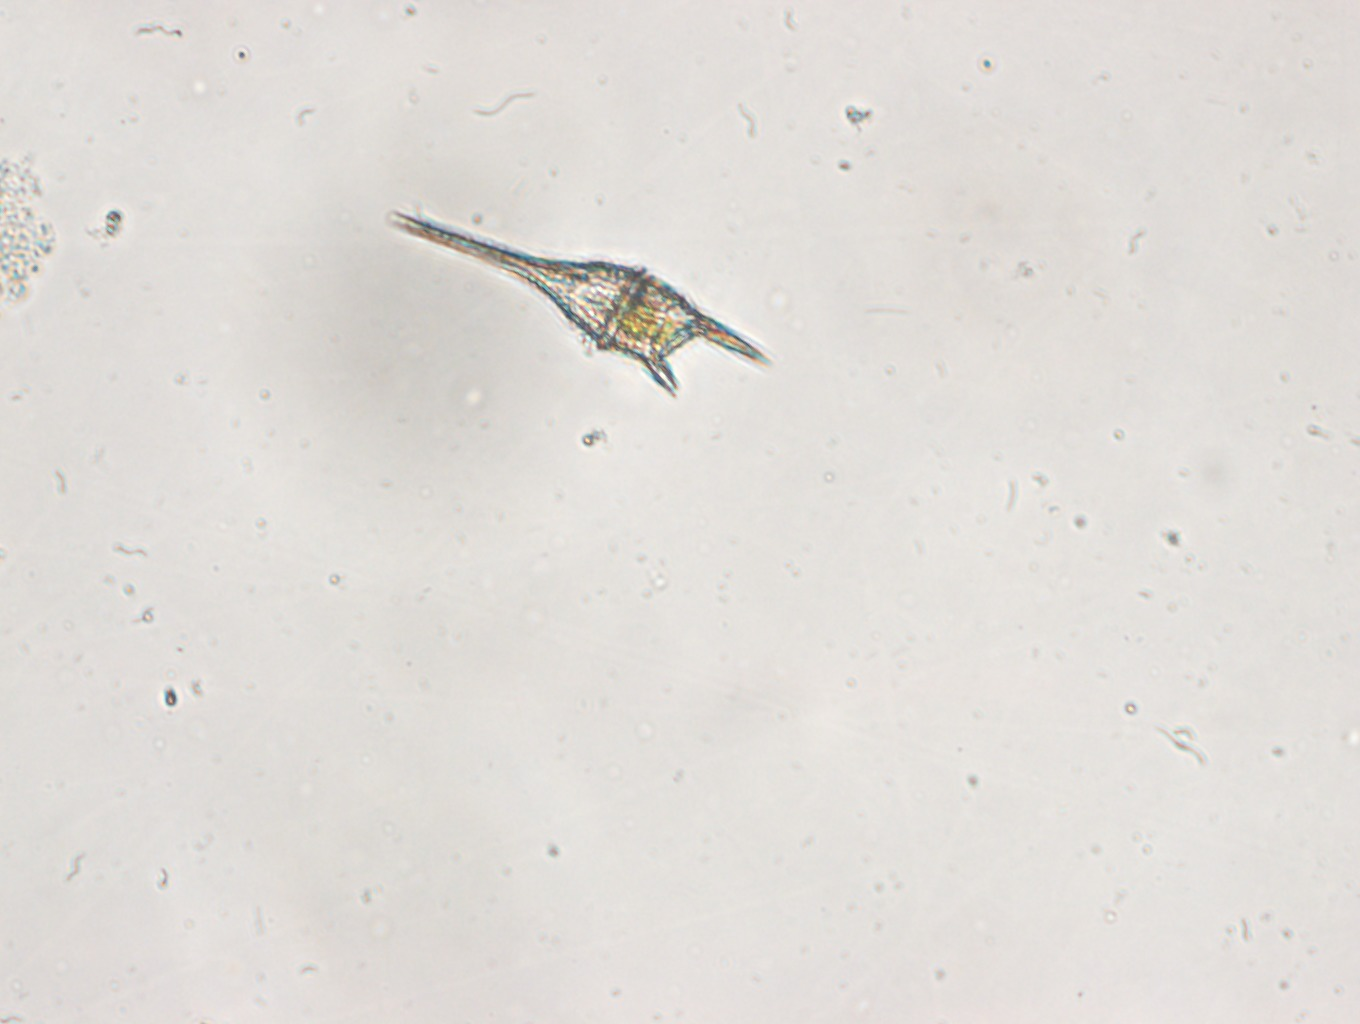ceratium furca: (378, 200, 775, 401)
